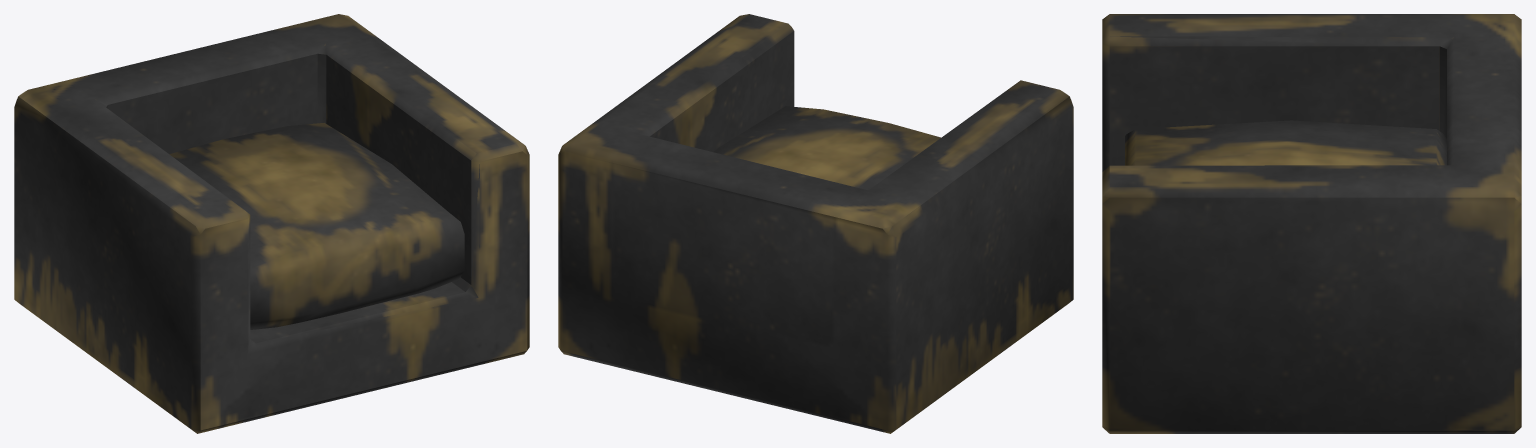
Rendered from POLTRONA.glb.
3 renders of one model, left to right at view 1: azimuth 30°, elevation 25°; view 2: azimuth 150°, elevation 25°; view 3: azimuth 270°, elevation 25°, orthographic. The views are drawn at different scales.
Parts seen in each view (by area): view 1: Couch_Small2_Cube.026; view 2: Couch_Small2_Cube.026; view 3: Couch_Small2_Cube.026.
Boxes of the visible parts, <box> form: Couch_Small2_Cube.026: <box>14,14,529,433</box>; Couch_Small2_Cube.026: <box>558,14,1073,433</box>; Couch_Small2_Cube.026: <box>1102,14,1521,433</box>.
Size of the model in its own units: 2.11 by 1.27 by 1.99.
2 materials, 2 textured.
